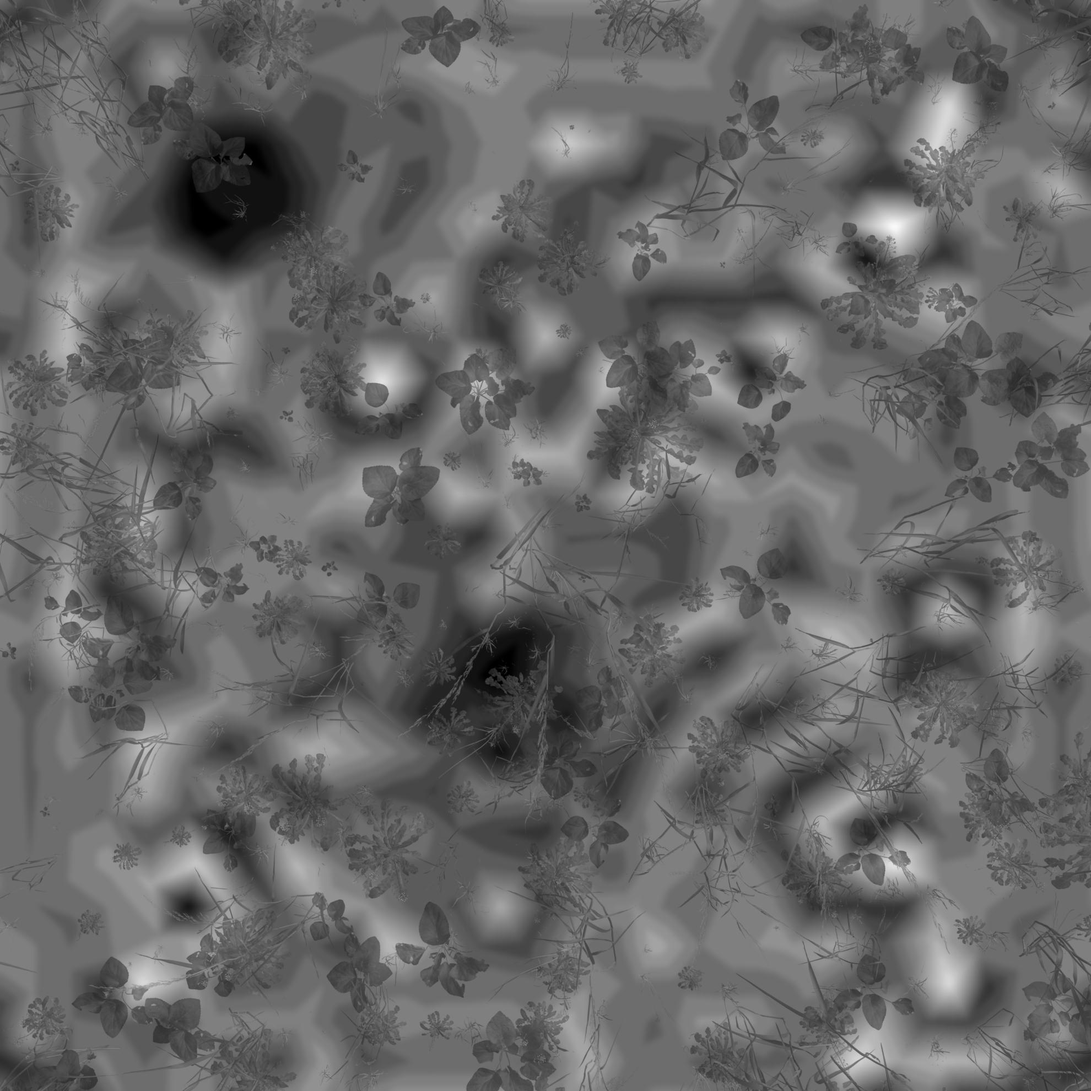landmine: (436, 607, 583, 765), (175, 128, 289, 253)
